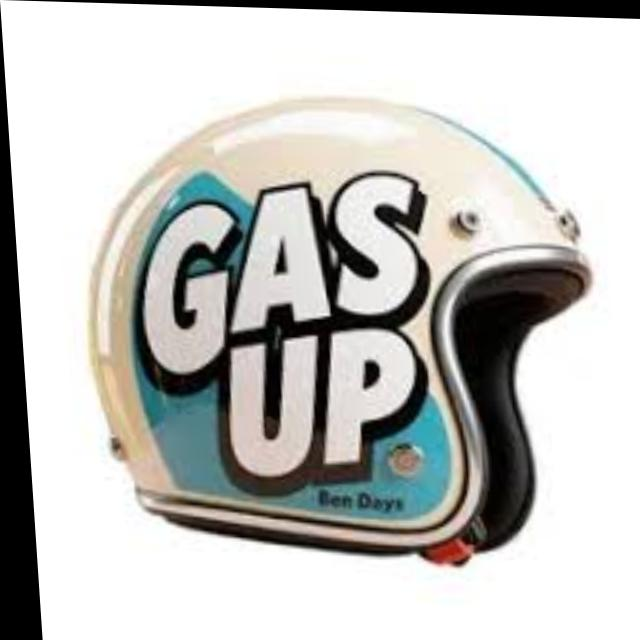motorcycle-helmets: (90, 97, 589, 562)
